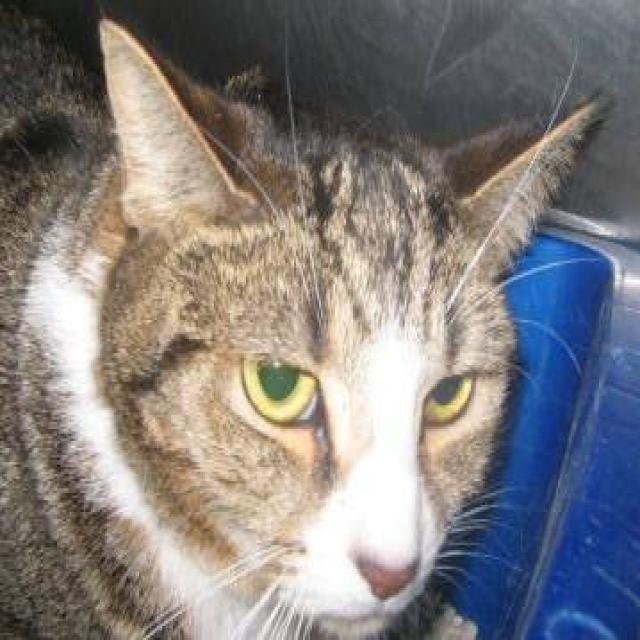cat: (0, 0, 615, 638)
